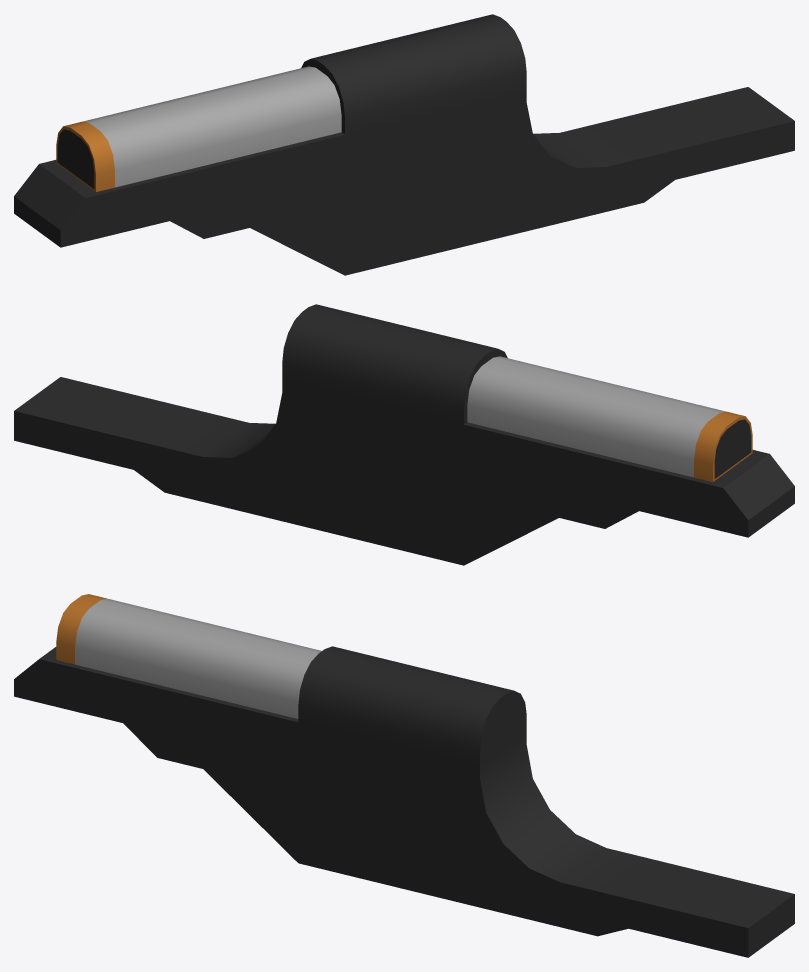
Rendered from Body_AR_1.glb.
3 views of the same model, one above another, from view 1: azimuth 30°, elevation 25°; view 2: azimuth 150°, elevation 25°; view 3: azimuth 330°, elevation 25° (orthographic).
Visible parts, largest first — view 1: Body_AR_1; view 2: Body_AR_1; view 3: Body_AR_1.
Boxes of the visible parts, x1=… form: Body_AR_1: x1=14, y1=14, x2=794, y2=275; Body_AR_1: x1=14, y1=304, x2=794, y2=565; Body_AR_1: x1=14, y1=594, x2=794, y2=957.
Size of the model in its own units: 1.24 by 0.3149 by 0.1366.
